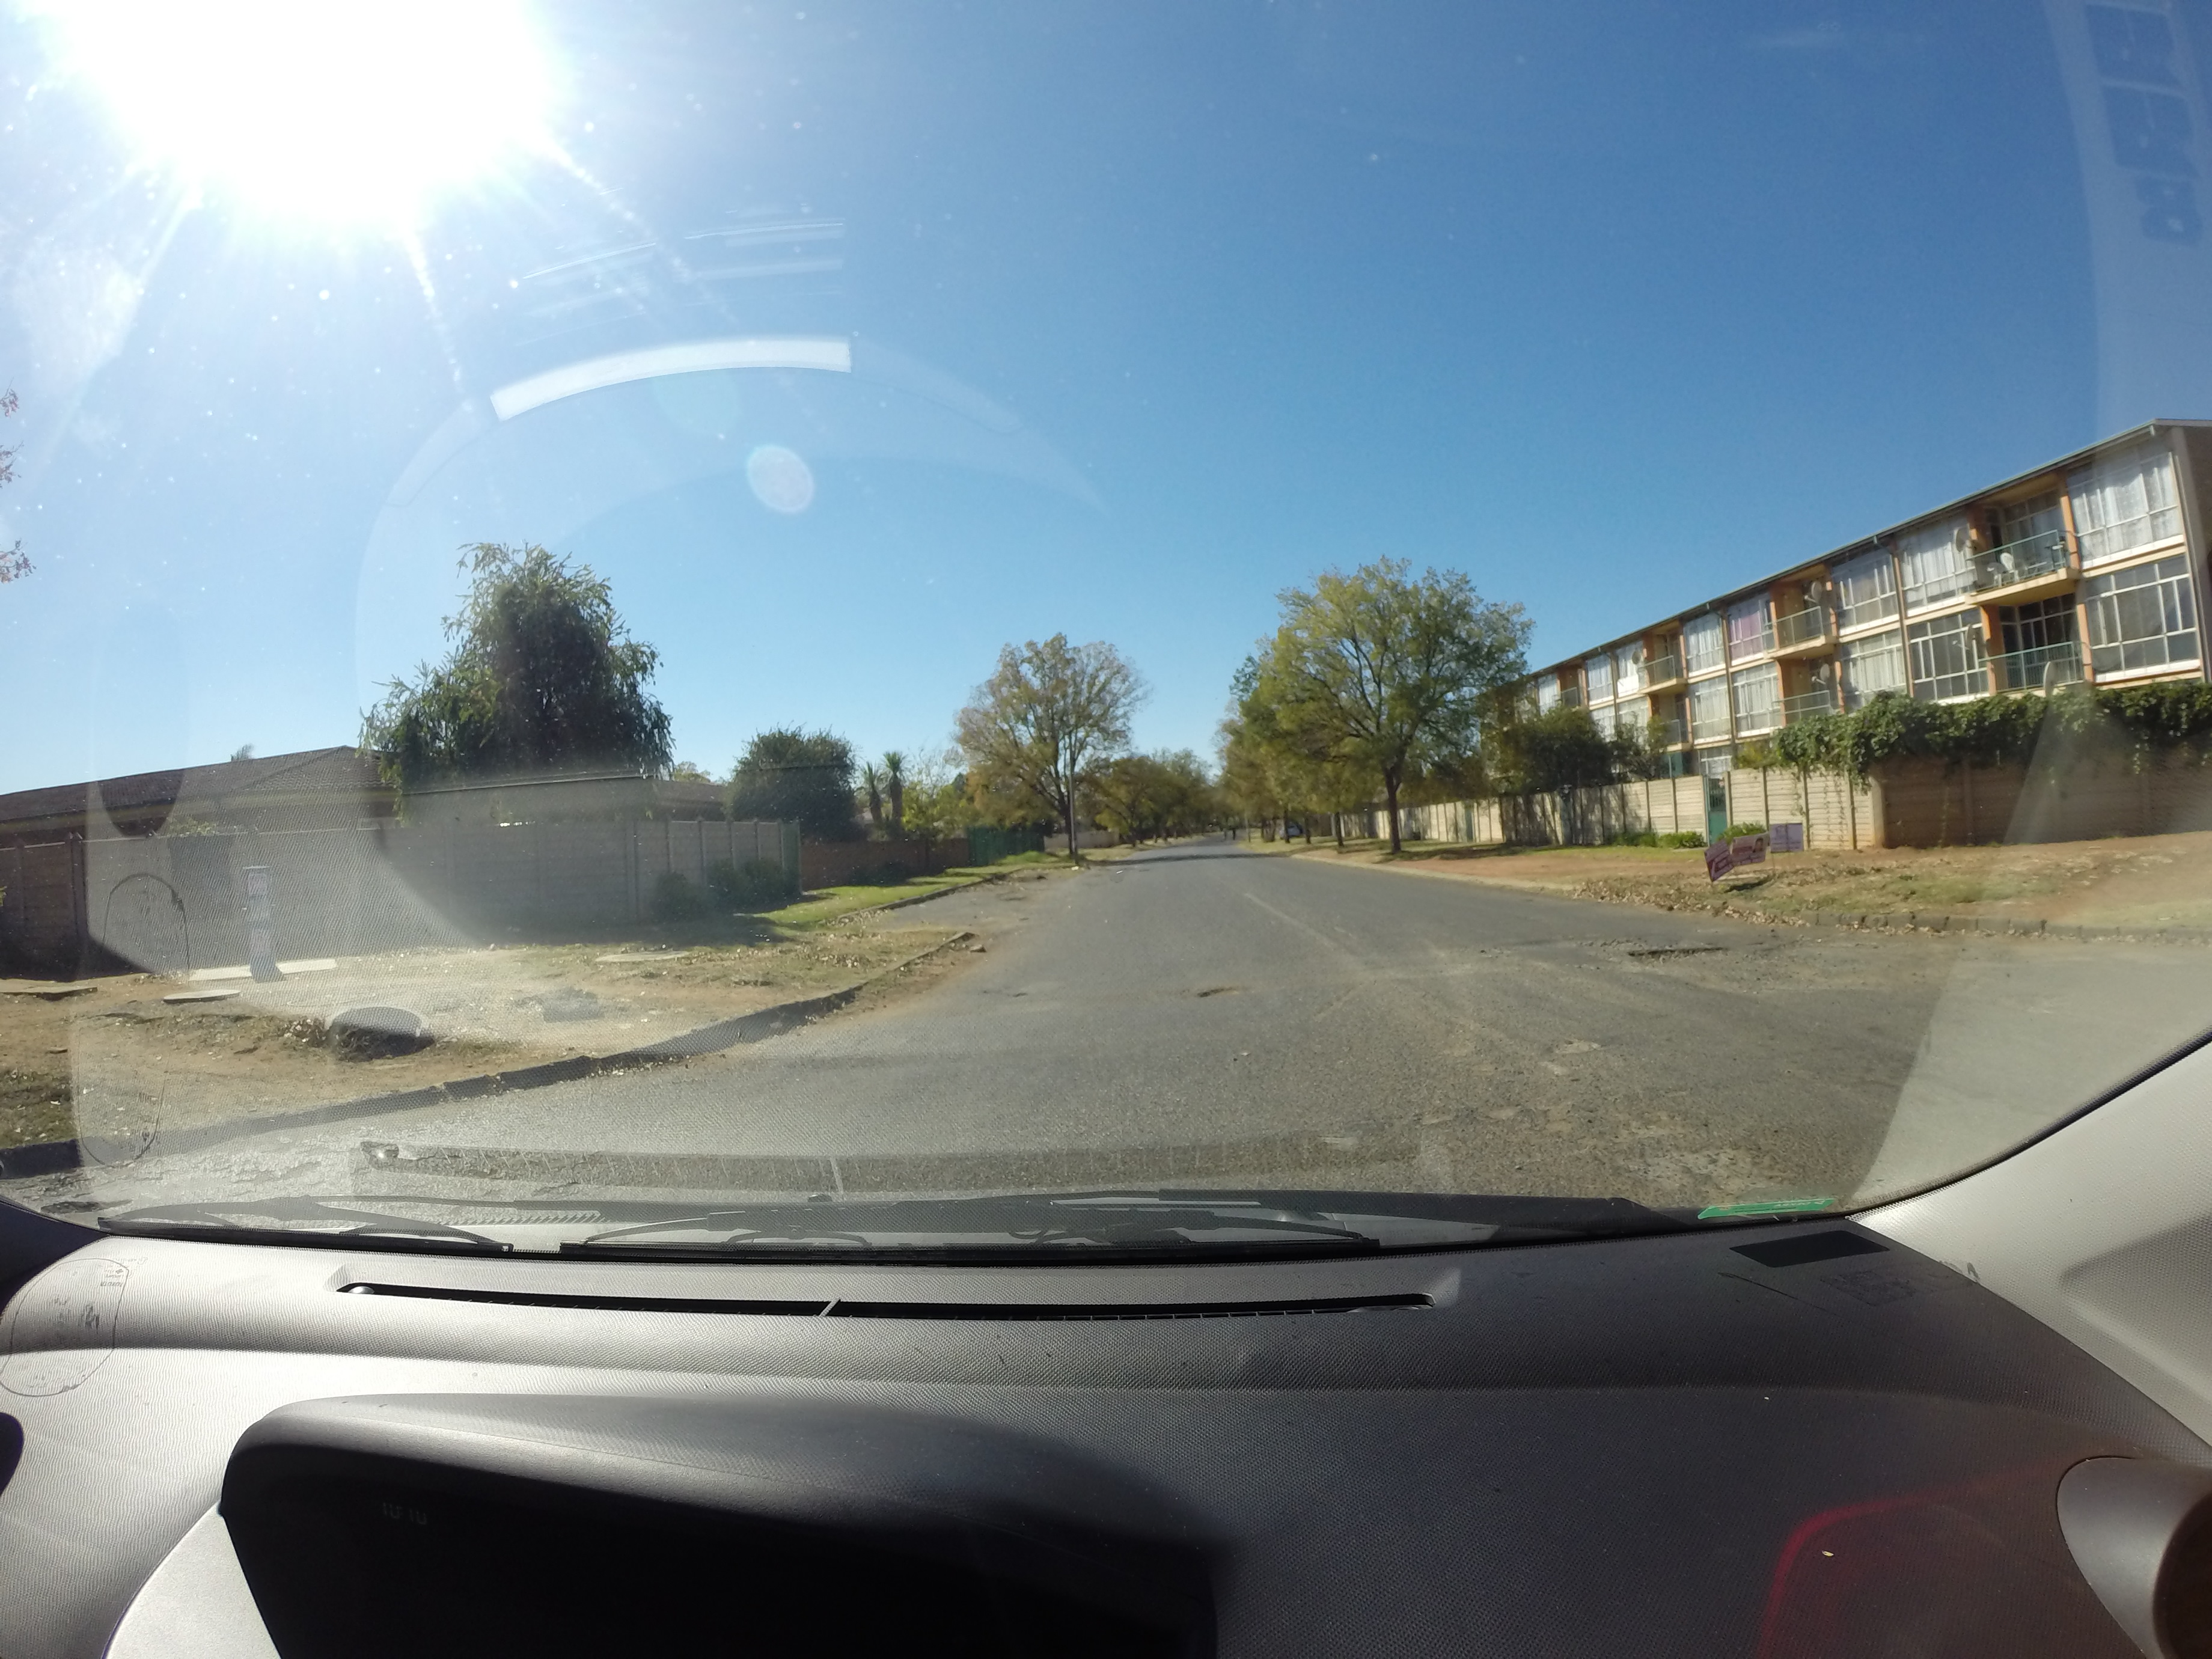pothole: (1568, 897, 1940, 1009), (1184, 955, 1355, 1058)
